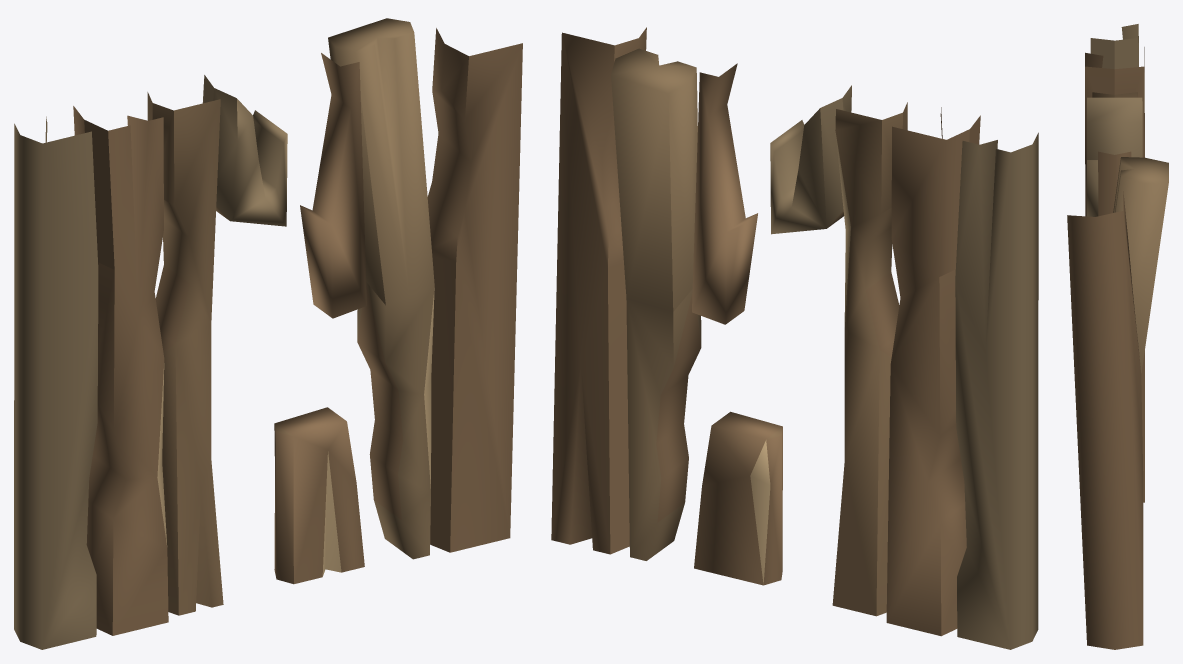
Rendered from rpgpp_av_wall_02_3x3_window_02b.gltf.
3 renders of one model, left to right at view 1: azimuth 30°, elevation 25°; view 2: azimuth 150°, elevation 25°; view 3: azimuth 270°, elevation 25°, orthographic. The views are drawn at different scales.
Parts seen in each view (by area): view 1: rpgpp_av_wall_02_3x3_window_02b; view 2: rpgpp_av_wall_02_3x3_window_02b; view 3: rpgpp_av_wall_02_3x3_window_02b.
Boxes of the visible parts, bbox=[...] form: rpgpp_av_wall_02_3x3_window_02b: bbox=[14, 18, 522, 649]; rpgpp_av_wall_02_3x3_window_02b: bbox=[551, 27, 1038, 649]; rpgpp_av_wall_02_3x3_window_02b: bbox=[1067, 24, 1168, 649].
Size of the model in its own units: 0.03 by 0.0302 by 0.00638.
1 material, 1 textured.
